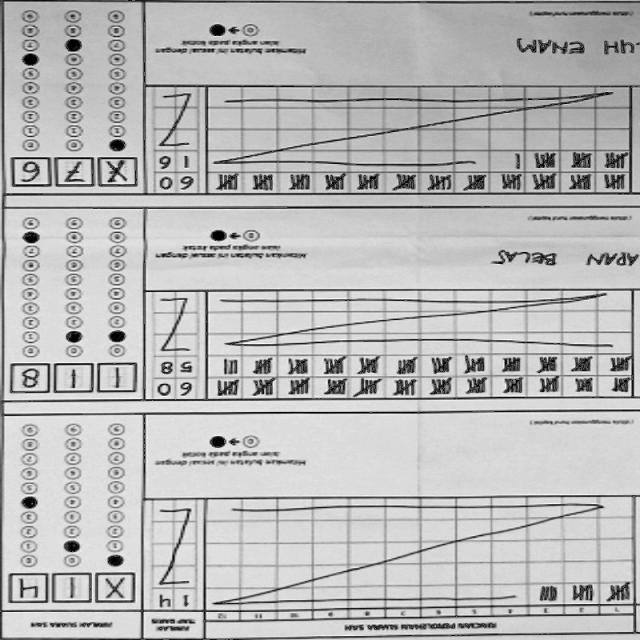Suara: (9, 361, 142, 401), (9, 156, 143, 194), (8, 573, 140, 608)
